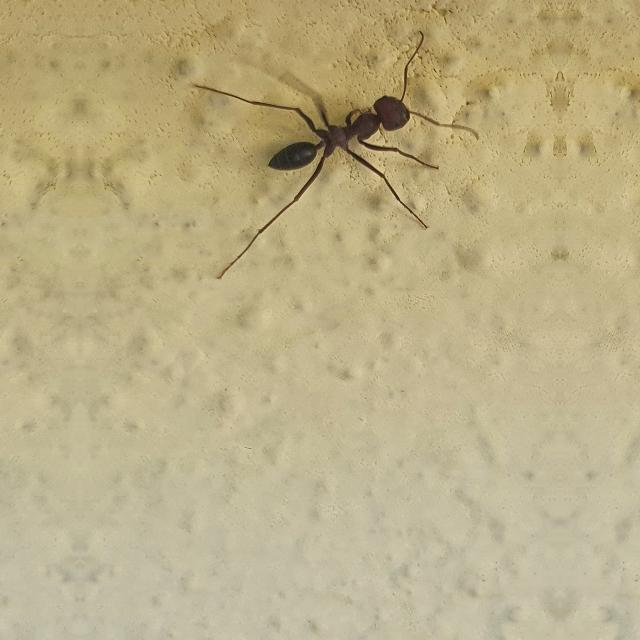Cataglyphis: (259, 61, 435, 210)
